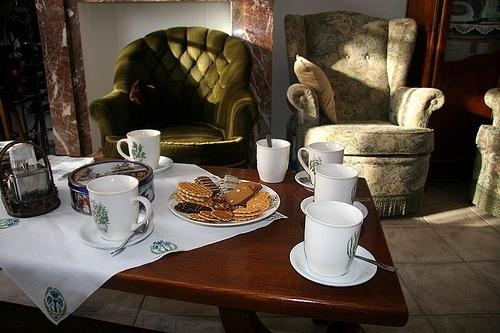chair: (286, 11, 446, 220), (93, 25, 259, 158), (472, 87, 500, 220)
